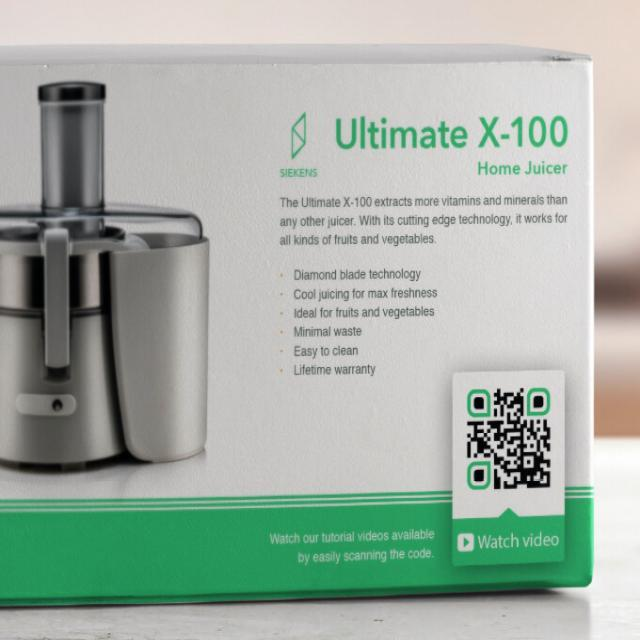qr_code: (466, 387, 551, 490)
